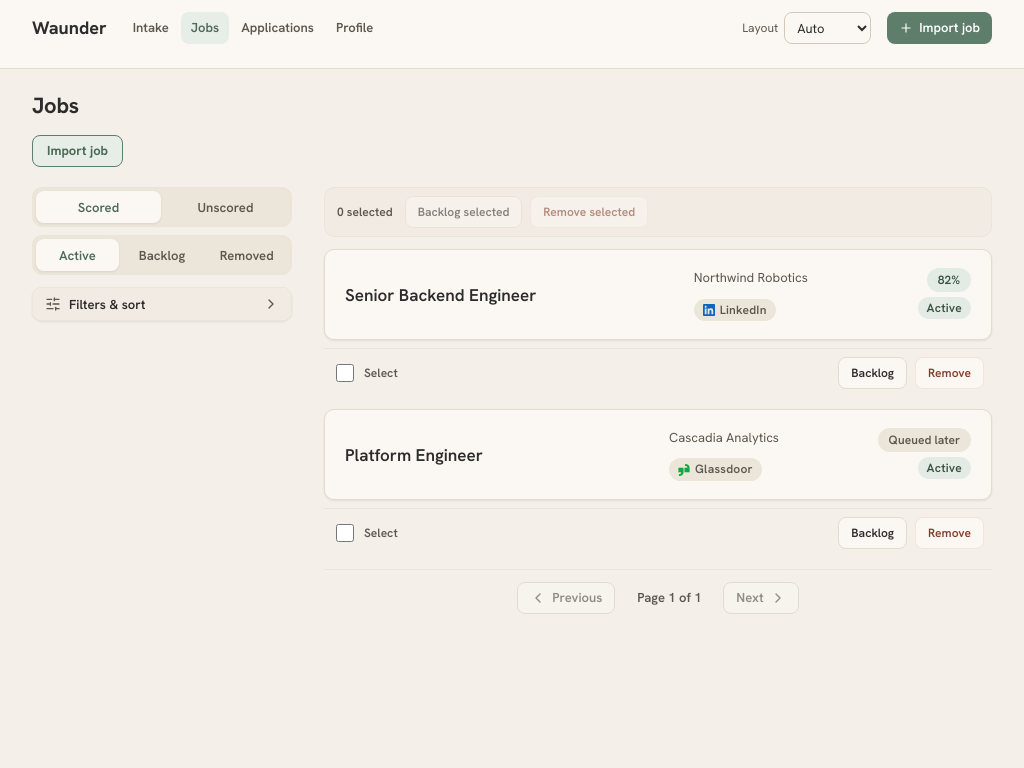
lifecycle writes › disables every lifecycle control while a write is in flight
Expected: the list with class "job-list-items" is shown, [324,250,992,549]
Click the button "Backlog" below "Northwind Robotics" at {"x": 873, "y": 373}, box [838,357,907,389]
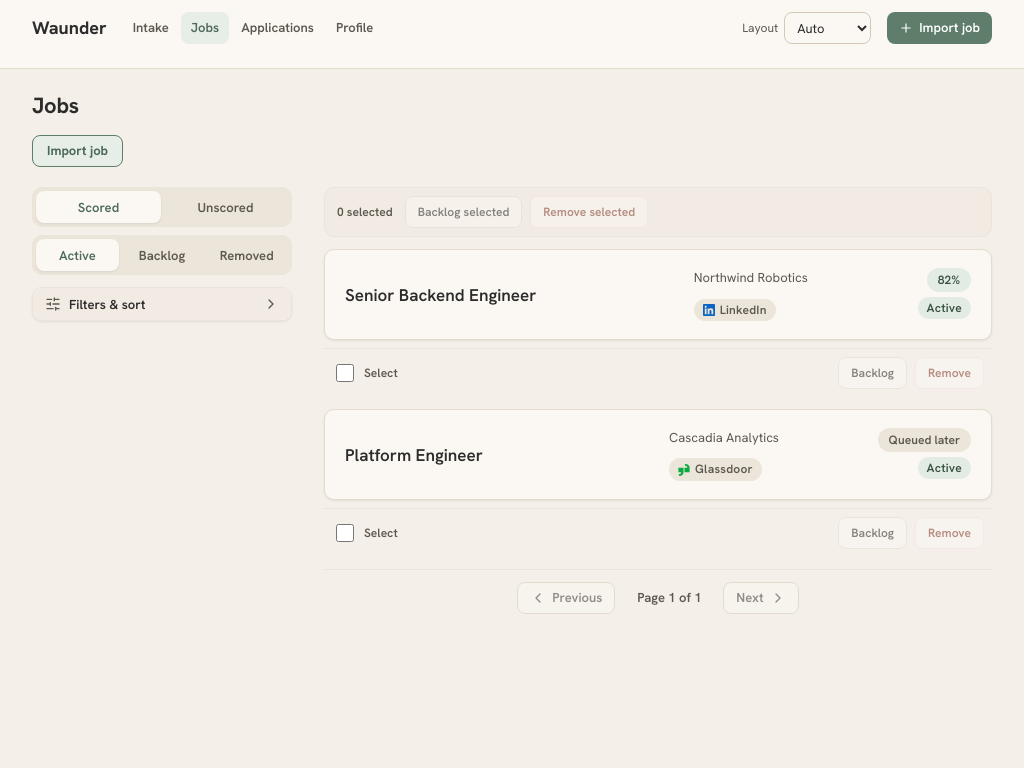
Expected: the button "Backlog selected" is disabled, [405,196,522,228]
Now the button "Remove" below "Northwind Robotics" is disabled, box [915,357,984,389]
Now the button "Backlog" below "Cascadia Analytics" is disabled, box [838,517,907,549]
